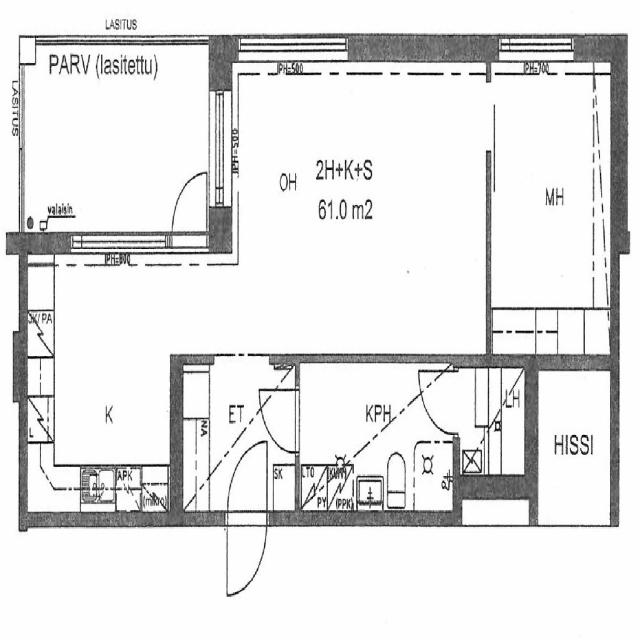door: (225, 70, 486, 350), (223, 433, 272, 599), (167, 159, 212, 254), (261, 379, 303, 458), (417, 362, 457, 440)
window: (63, 226, 168, 273), (206, 80, 234, 215), (494, 32, 577, 75), (65, 232, 117, 264)
zone: (222, 70, 493, 354), (487, 60, 618, 356), (23, 259, 175, 503), (296, 359, 459, 516), (174, 355, 294, 517), (532, 358, 615, 528), (458, 362, 528, 485)
